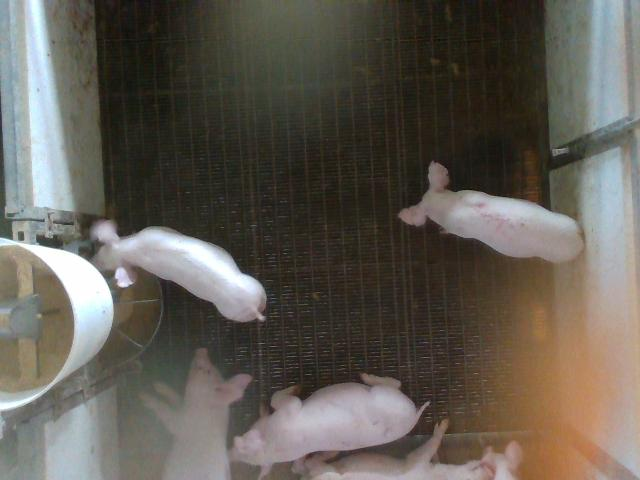pig-5: (398, 161, 584, 262)
